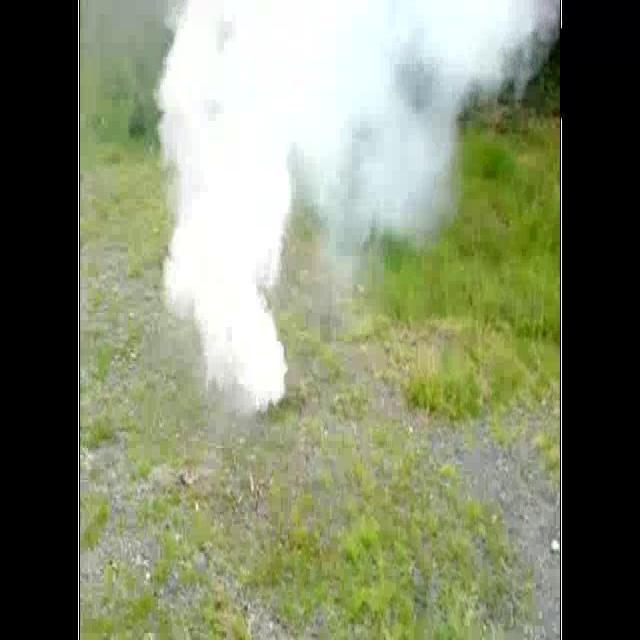Smoke: (79, 0, 560, 286), (154, 0, 340, 412)
